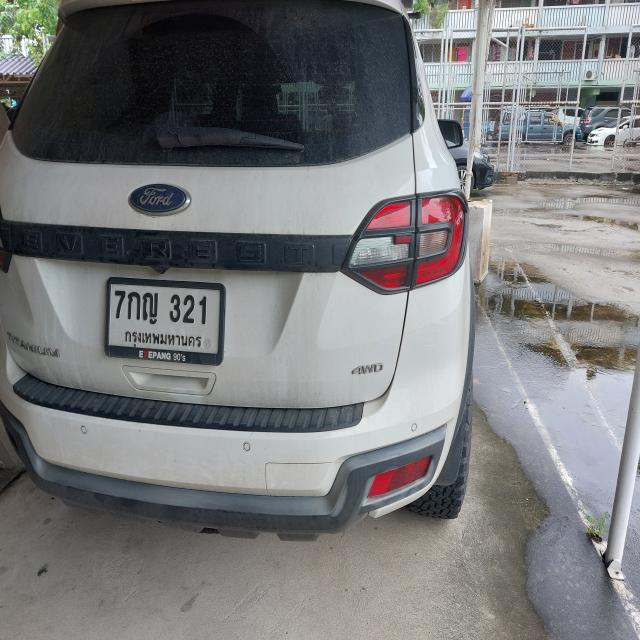license_plate: (104, 274, 226, 367)
